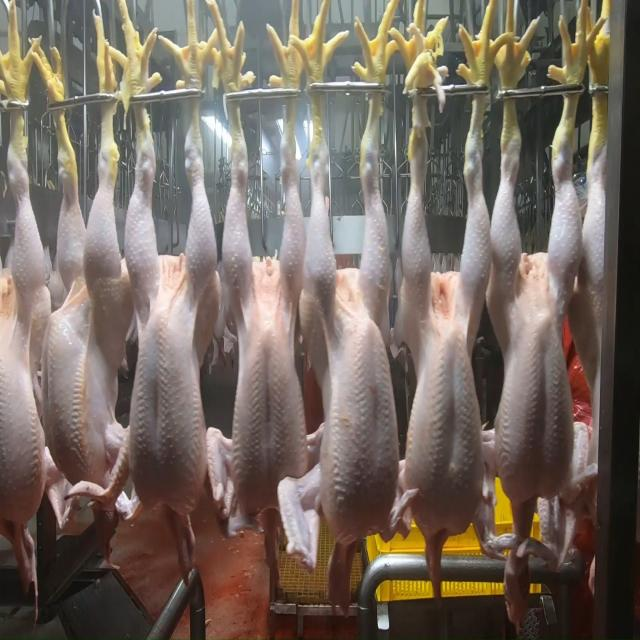chicken: (486, 134, 586, 515), (402, 115, 486, 555), (121, 118, 211, 521), (308, 116, 392, 544), (222, 124, 310, 525), (42, 127, 115, 480), (0, 122, 34, 538)
